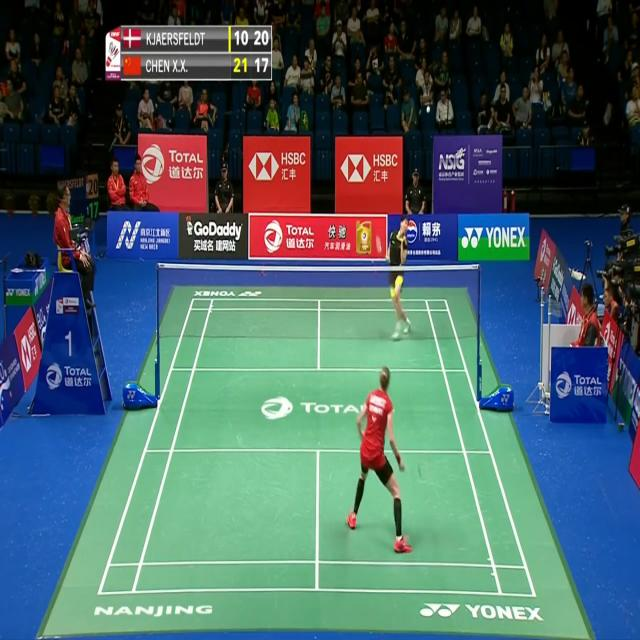Player1: (344, 358, 415, 564)
Player2: (381, 204, 421, 354)
